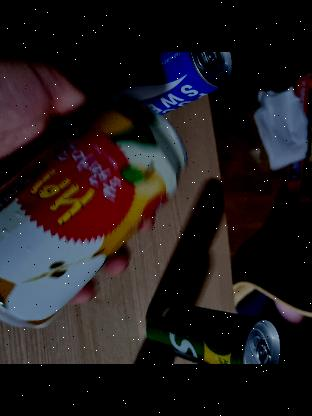Can: (0, 98, 196, 326), (110, 52, 229, 121), (147, 305, 280, 364)
